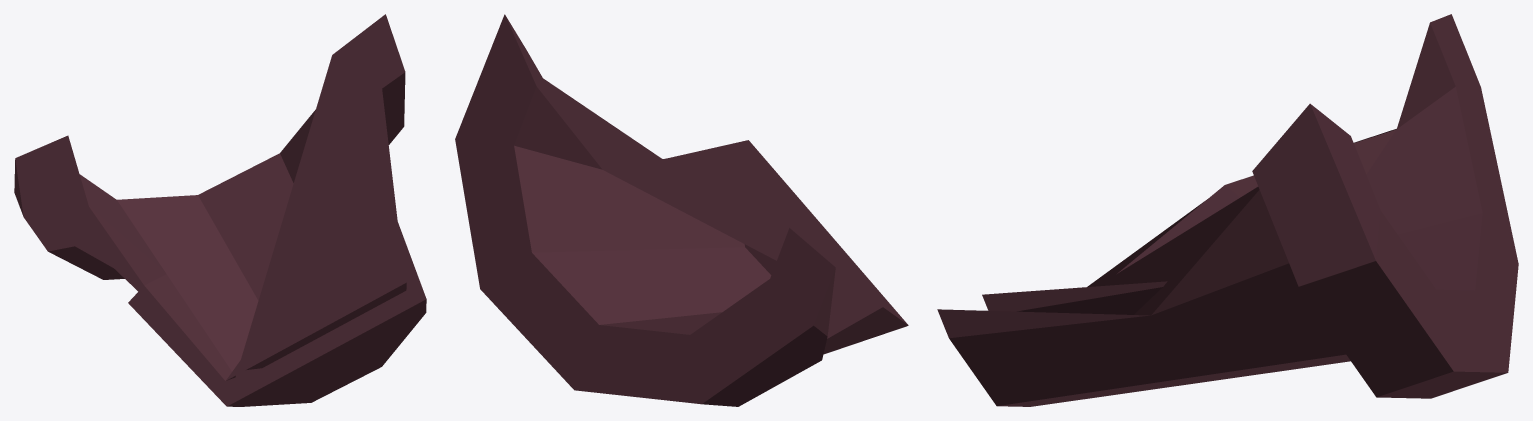
The model's file is Broken_pot_2b.fbx.
The picture shows the model from 3 angles, left to right: view 1: azimuth 30°, elevation 25°; view 2: azimuth 150°, elevation 25°; view 3: azimuth 270°, elevation 25°; orthographic projection. The views are drawn at different scales.
Visible parts, largest first — view 1: Cylinder.002; view 2: Cylinder.002; view 3: Cylinder.002.
Boxes of the visible parts, x1,y1,x2,y2 form: Cylinder.002: (14,14,426,406); Cylinder.002: (455,14,908,406); Cylinder.002: (937,14,1518,406).
Size of the model in its own units: 113 by 88.43 by 109.
